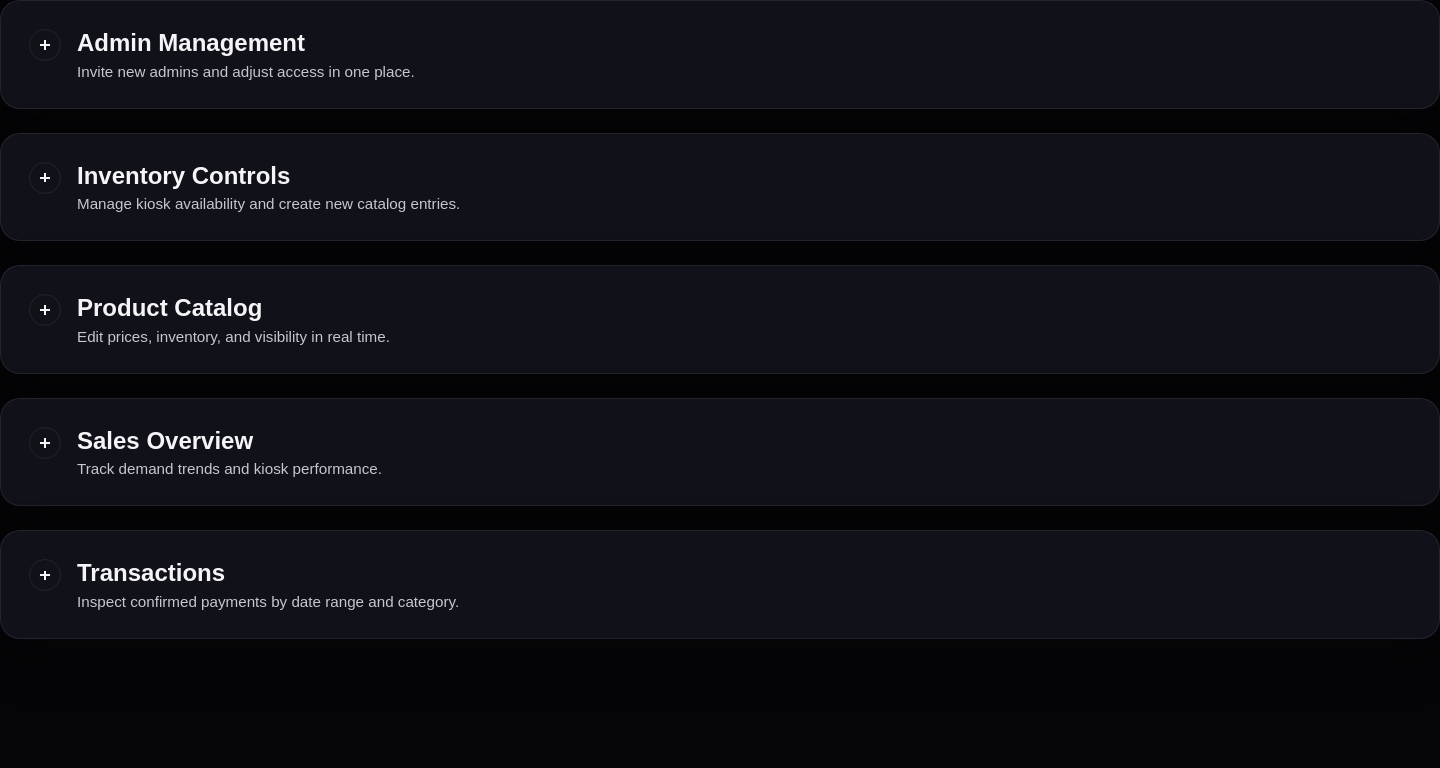
AdminDashboard › archives a product when confirmed
Click the button "Product Catalog".
click(45, 310)  # box [29,294,1411,345]
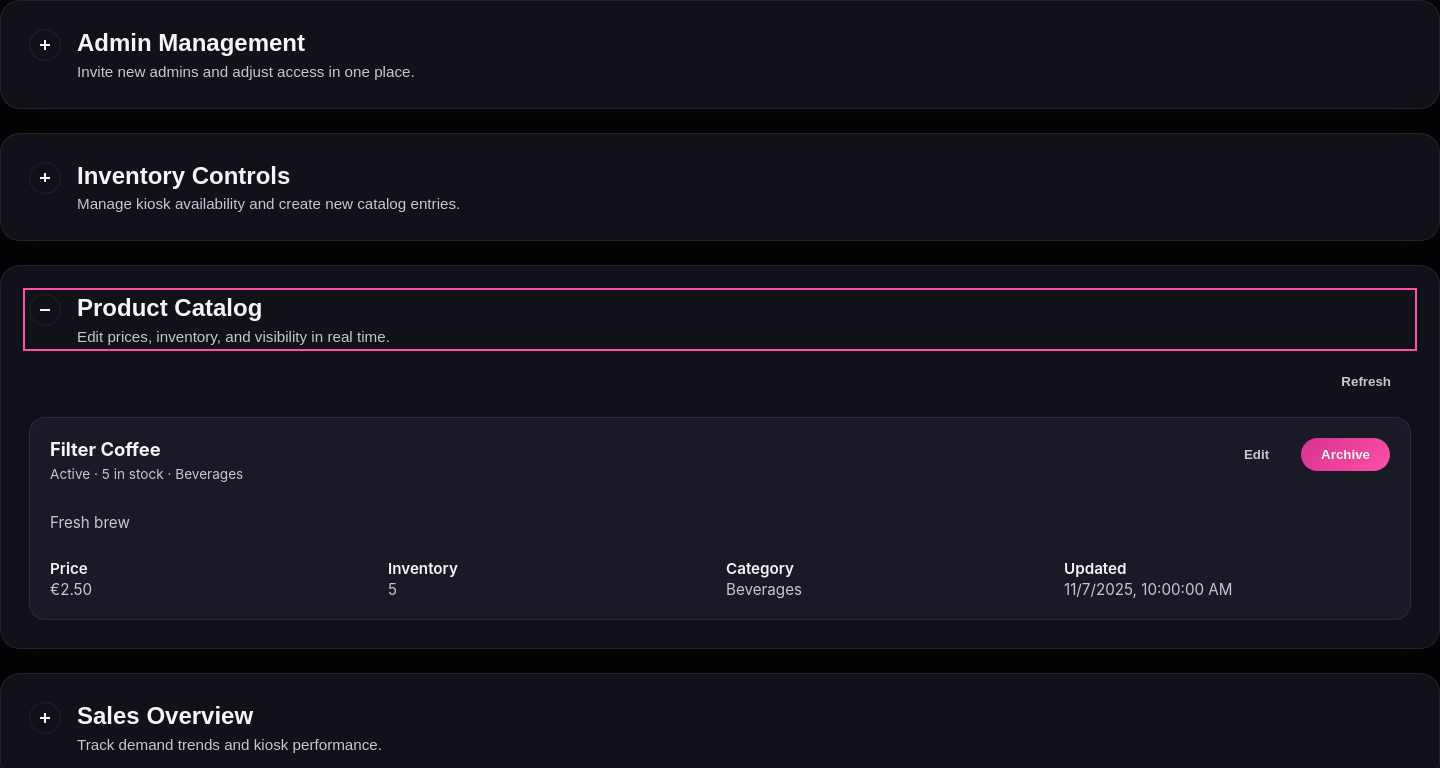
Click the button "Archive".
click(1346, 455)  # box [1301,438,1390,471]
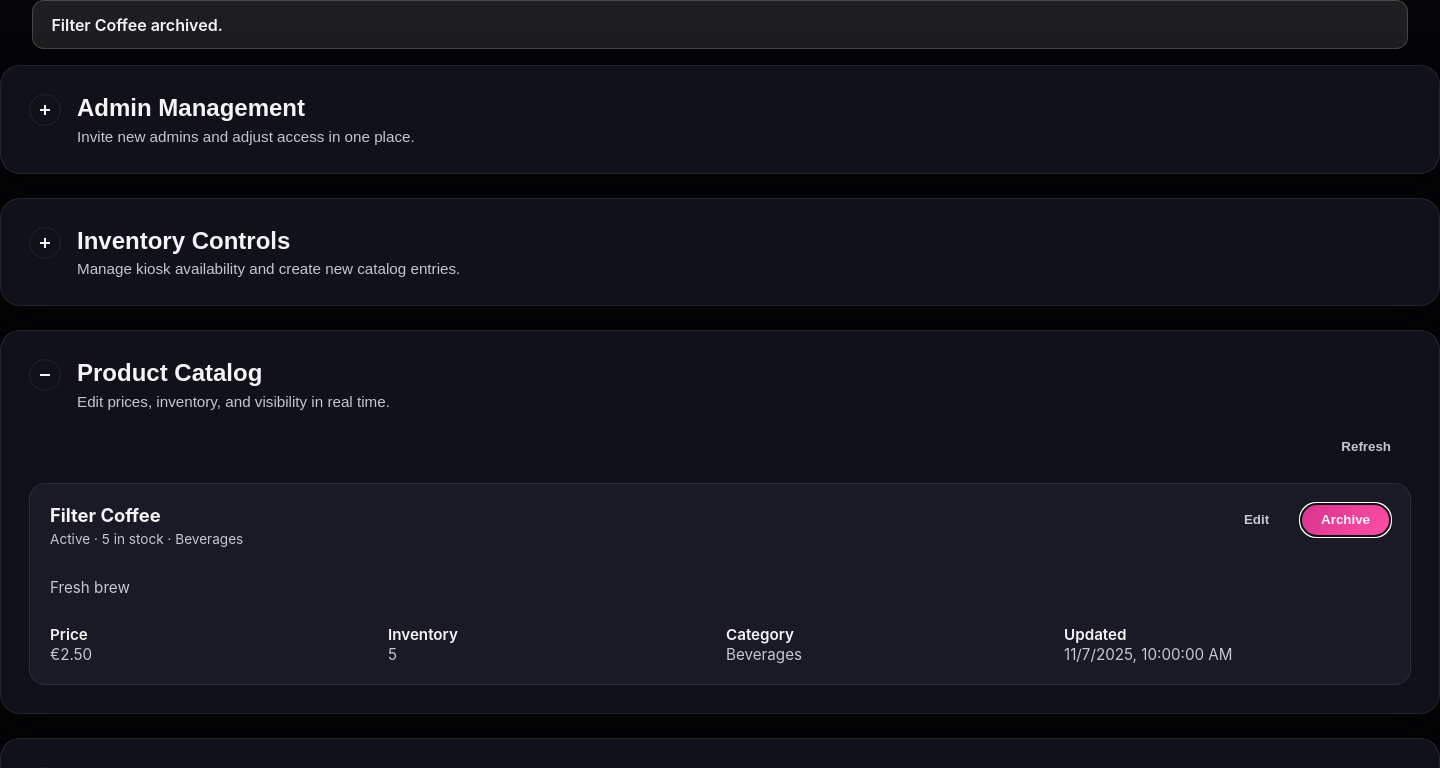
expect the text "Filter Coffee archived." is shown: met, box [32,0,1408,49]
